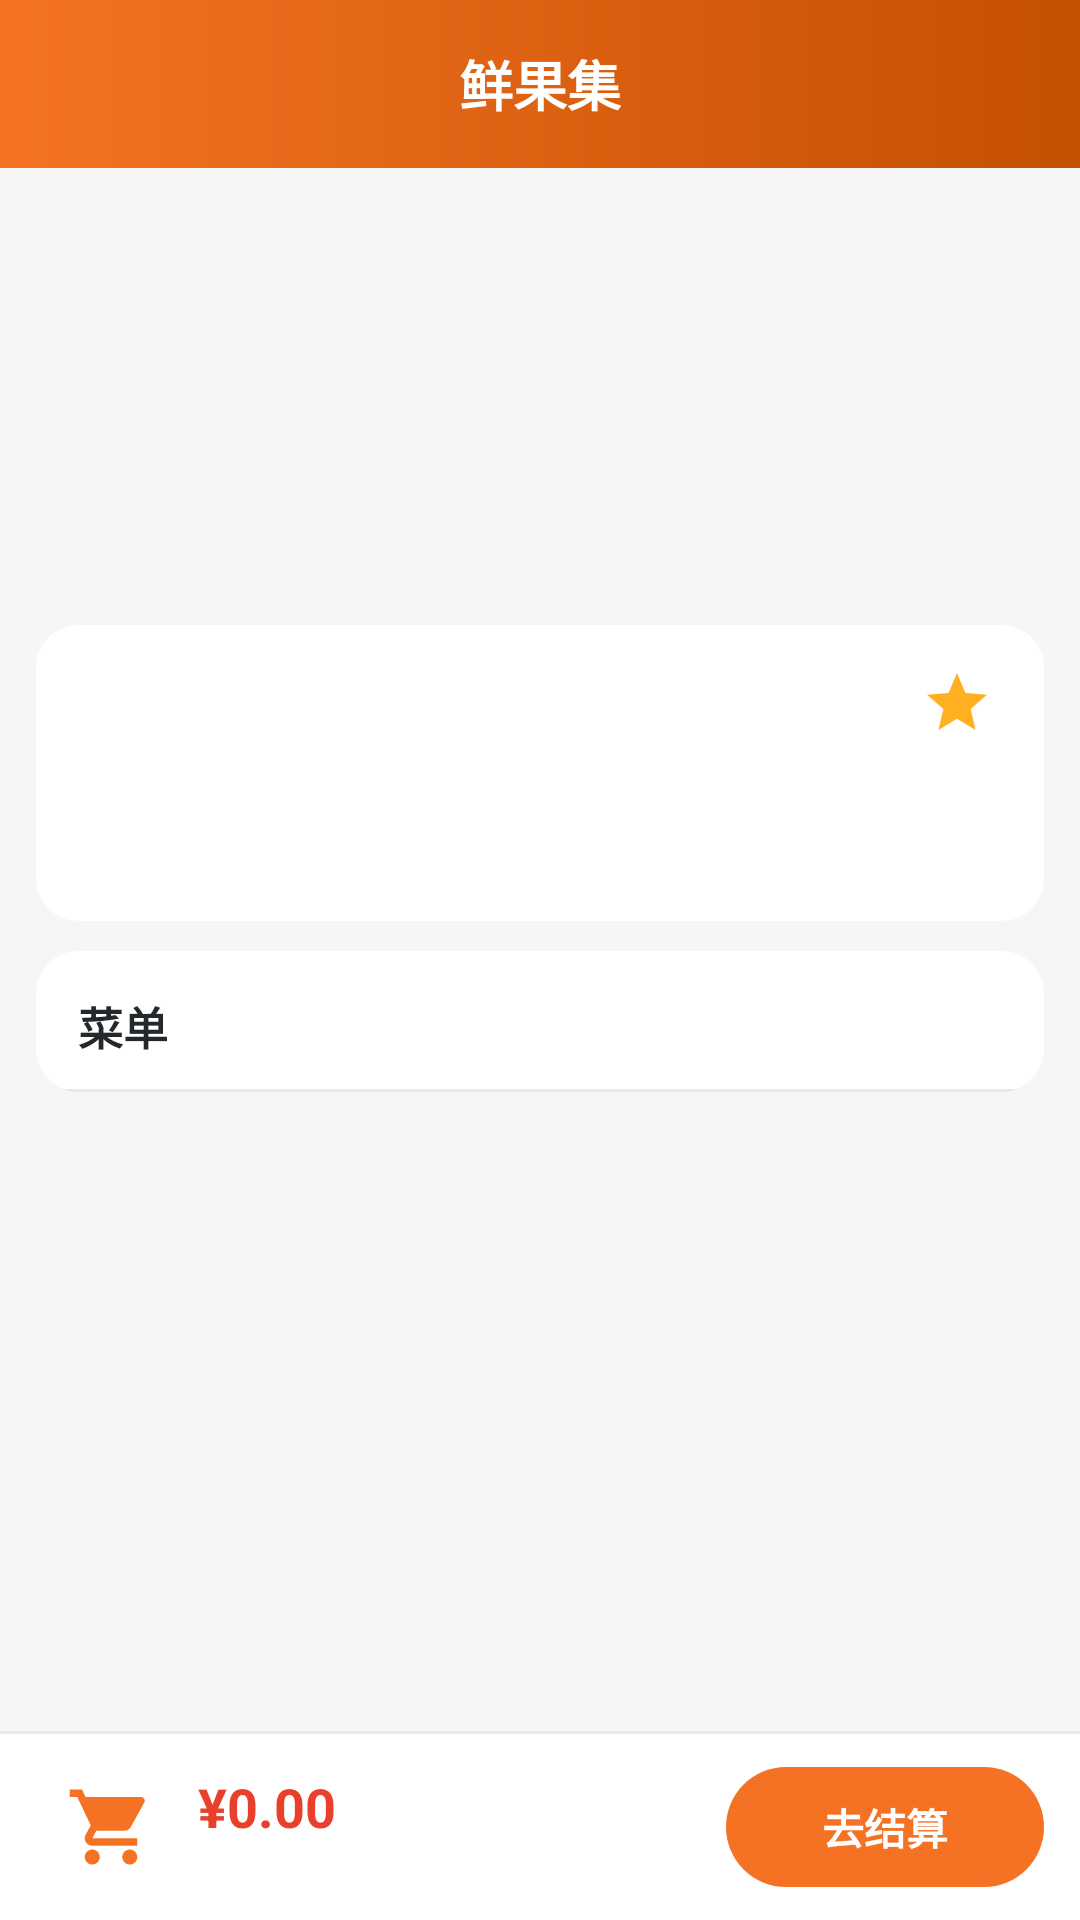

Icon click points for this 1080 × 1920 phone screenshot, format point (x, y):
购物车: point (107, 1827)
